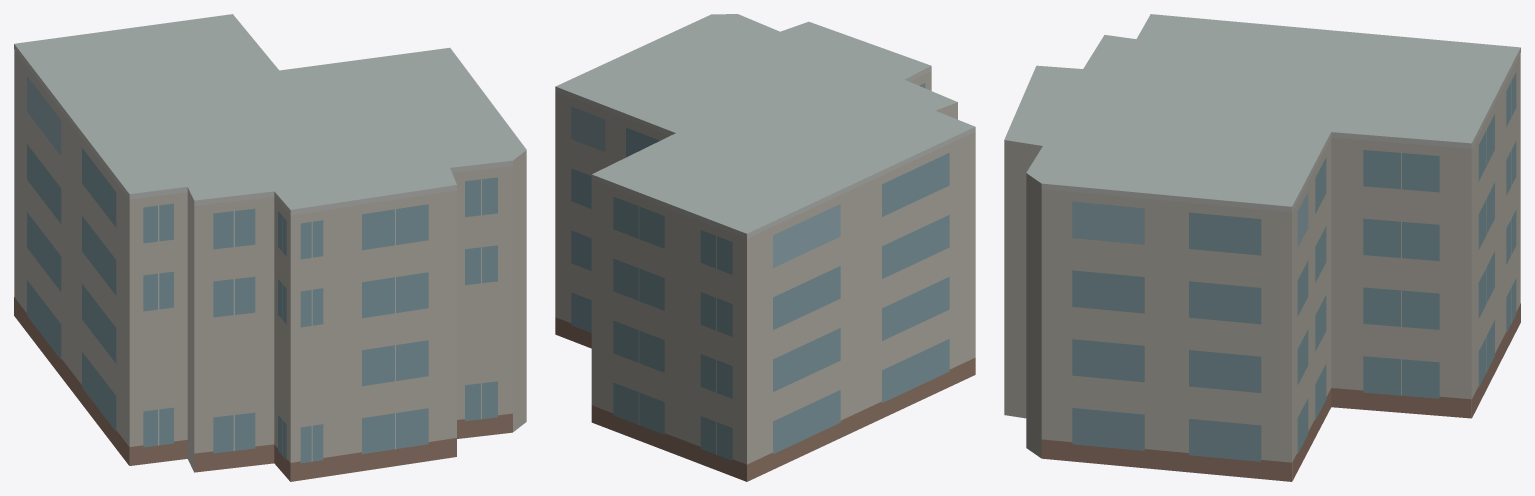
File: survey-upis-32974320.glb
The picture shows the model from 3 angles, left to right: view 1: azimuth 30°, elevation 25°; view 2: azimuth 150°, elevation 25°; view 3: azimuth 270°, elevation 25°; orthographic projection. The views are drawn at different scales.
Visible parts, largest first — view 1: survey-upis-32974320.tmp; view 2: survey-upis-32974320.tmp; view 3: survey-upis-32974320.tmp.
Part boxes in pixels (x1,y1,x2,y2): survey-upis-32974320.tmp: (14,14,526,481); survey-upis-32974320.tmp: (555,14,975,481); survey-upis-32974320.tmp: (1004,14,1520,481).
Bounding box in the file's own units: 18.35 × 12.2 × 20.78.
